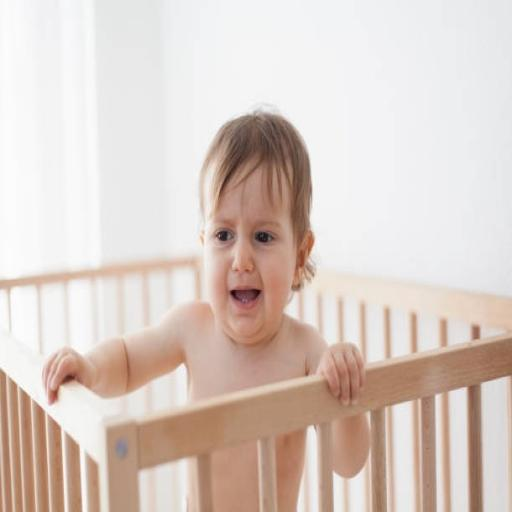baby: (43, 111, 365, 403)
crib: (0, 258, 511, 510)
